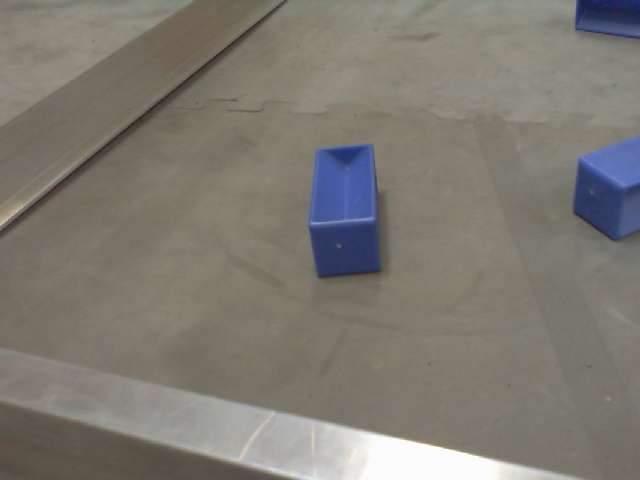BlueSample: (304, 143, 390, 279), (570, 129, 640, 244), (567, 1, 639, 41)
